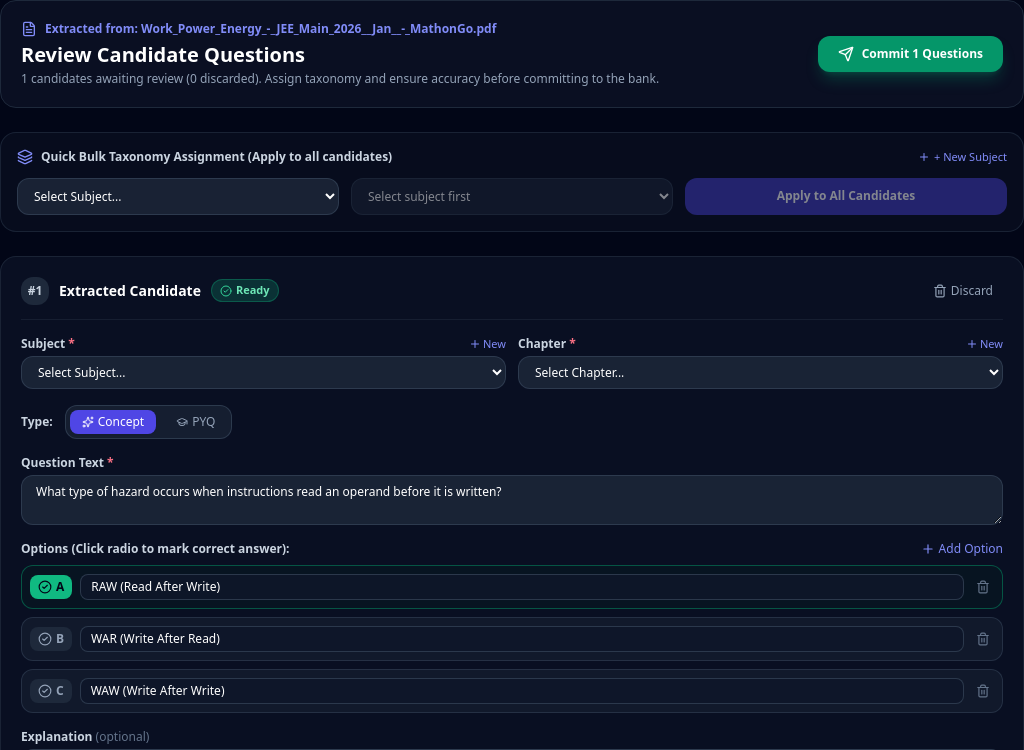
Scenario: Admin PDF Ingestion UI (PROMPT 15 & PROMPT 27) › submits reviewed questions successfully and shows completion summary
Expected: the text "Commit 1 Questions" is shown, [862,46,983,62]
Click the button "Commit 1 Questions" at (910, 54), box [818,36,1003,72]
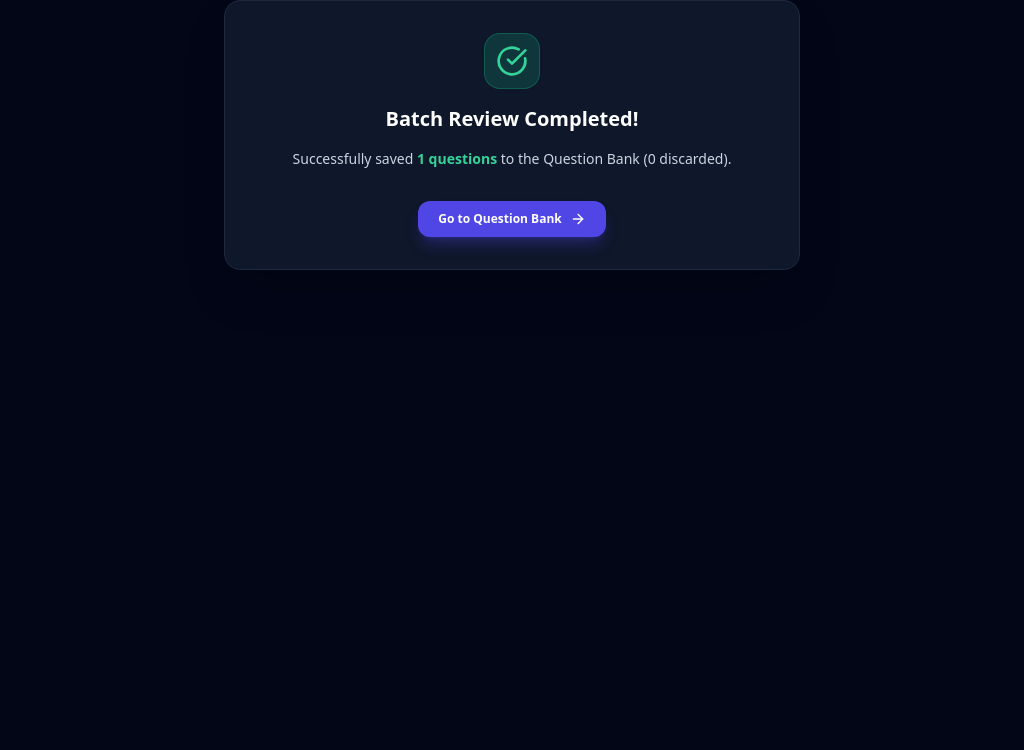
Expected: the heading "Batch Review Completed!" is shown, [386,105,638,132]
Expected: the text "Successfully saved" is shown, [293,149,413,168]
